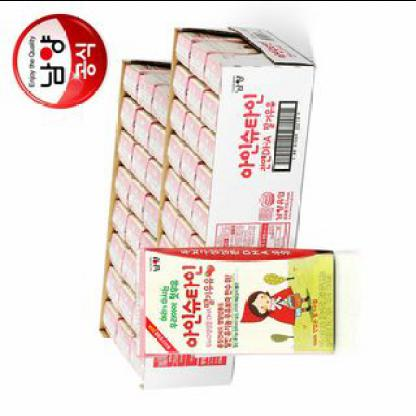tetra: (124, 233, 356, 375)
